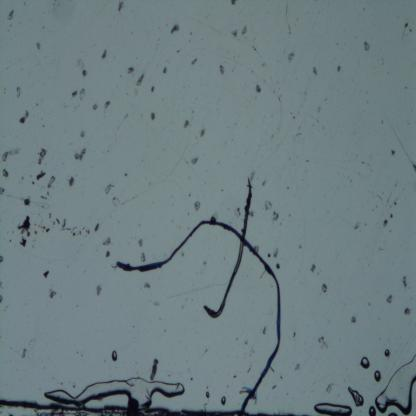Air bubble: (43, 377, 187, 408), (374, 355, 416, 416), (312, 401, 352, 416), (347, 386, 364, 407), (360, 355, 371, 369), (110, 350, 120, 362), (368, 405, 377, 416), (374, 370, 382, 382), (219, 395, 226, 406), (388, 411, 398, 416), (384, 349, 391, 356), (275, 262, 280, 270), (206, 392, 210, 399)
Background material: (62, 219, 90, 236), (16, 216, 32, 238), (73, 146, 86, 161), (19, 107, 29, 124), (150, 358, 158, 379), (37, 147, 46, 165), (320, 334, 329, 352), (115, 0, 127, 13), (111, 196, 123, 208), (237, 386, 250, 397), (94, 282, 104, 296), (104, 183, 115, 195), (36, 170, 47, 182), (18, 235, 28, 248), (136, 72, 145, 86), (14, 84, 22, 99), (364, 38, 372, 53), (234, 204, 242, 218), (347, 314, 358, 324), (352, 218, 362, 229), (239, 24, 249, 34), (7, 9, 16, 20), (20, 346, 27, 360), (139, 250, 146, 264), (402, 274, 409, 288), (48, 175, 55, 189), (408, 160, 416, 172), (325, 382, 333, 394), (79, 126, 86, 139), (2, 166, 9, 179), (190, 56, 200, 65), (403, 306, 412, 316), (264, 201, 273, 211), (271, 212, 280, 222), (78, 86, 86, 97), (310, 262, 318, 273), (182, 118, 190, 129), (70, 88, 78, 99), (48, 287, 56, 298), (210, 211, 218, 222), (101, 47, 108, 59), (219, 64, 226, 76), (250, 170, 257, 182), (193, 201, 202, 210), (93, 222, 101, 232), (172, 24, 180, 34), (23, 196, 31, 206), (103, 236, 111, 246), (125, 66, 135, 74), (68, 175, 74, 188), (42, 223, 50, 232), (320, 283, 328, 292), (149, 113, 158, 121), (10, 147, 20, 154), (386, 294, 393, 304), (2, 152, 9, 162), (376, 195, 384, 203), (288, 54, 296, 62), (191, 158, 200, 165), (43, 269, 50, 278), (382, 218, 388, 228), (286, 23, 291, 35), (336, 63, 342, 73), (312, 65, 318, 75), (273, 246, 278, 258), (34, 40, 40, 50), (231, 29, 239, 36), (103, 250, 110, 258), (294, 363, 301, 371), (402, 21, 408, 30), (255, 84, 261, 93), (261, 325, 267, 334), (162, 64, 167, 74), (150, 84, 156, 92), (82, 69, 88, 77), (199, 129, 205, 137), (261, 179, 267, 187), (92, 102, 98, 110), (104, 99, 110, 107), (152, 300, 160, 306), (0, 254, 5, 263), (391, 148, 397, 155), (317, 106, 323, 113), (144, 282, 150, 289), (0, 186, 5, 194), (247, 366, 252, 374), (252, 45, 257, 53), (139, 238, 143, 248), (122, 171, 128, 177), (230, 0, 236, 6), (248, 211, 253, 218), (48, 211, 52, 219), (292, 330, 296, 338), (40, 196, 48, 200), (389, 214, 395, 219), (30, 180, 36, 185), (298, 244, 304, 249), (254, 246, 260, 251), (272, 384, 278, 389), (56, 218, 60, 225), (0, 296, 4, 303), (180, 250, 184, 257), (244, 340, 249, 345), (267, 253, 272, 258), (33, 230, 38, 235), (394, 201, 398, 206), (233, 374, 237, 379), (305, 158, 310, 162), (0, 281, 2, 289), (203, 260, 207, 264), (289, 111, 293, 115), (292, 115, 296, 119), (53, 220, 56, 225), (23, 1, 26, 6), (235, 336, 238, 341), (191, 376, 194, 381), (280, 374, 283, 379), (278, 95, 281, 100), (38, 223, 41, 227), (410, 28, 412, 34), (362, 160, 364, 165), (34, 223, 37, 226), (42, 124, 45, 127), (47, 192, 50, 195), (36, 103, 38, 107), (42, 205, 44, 208)
Cellulose filter fibre: (203, 171, 256, 318)
Cotton: (111, 219, 284, 416)
Edge of slide: (0, 398, 303, 416)
